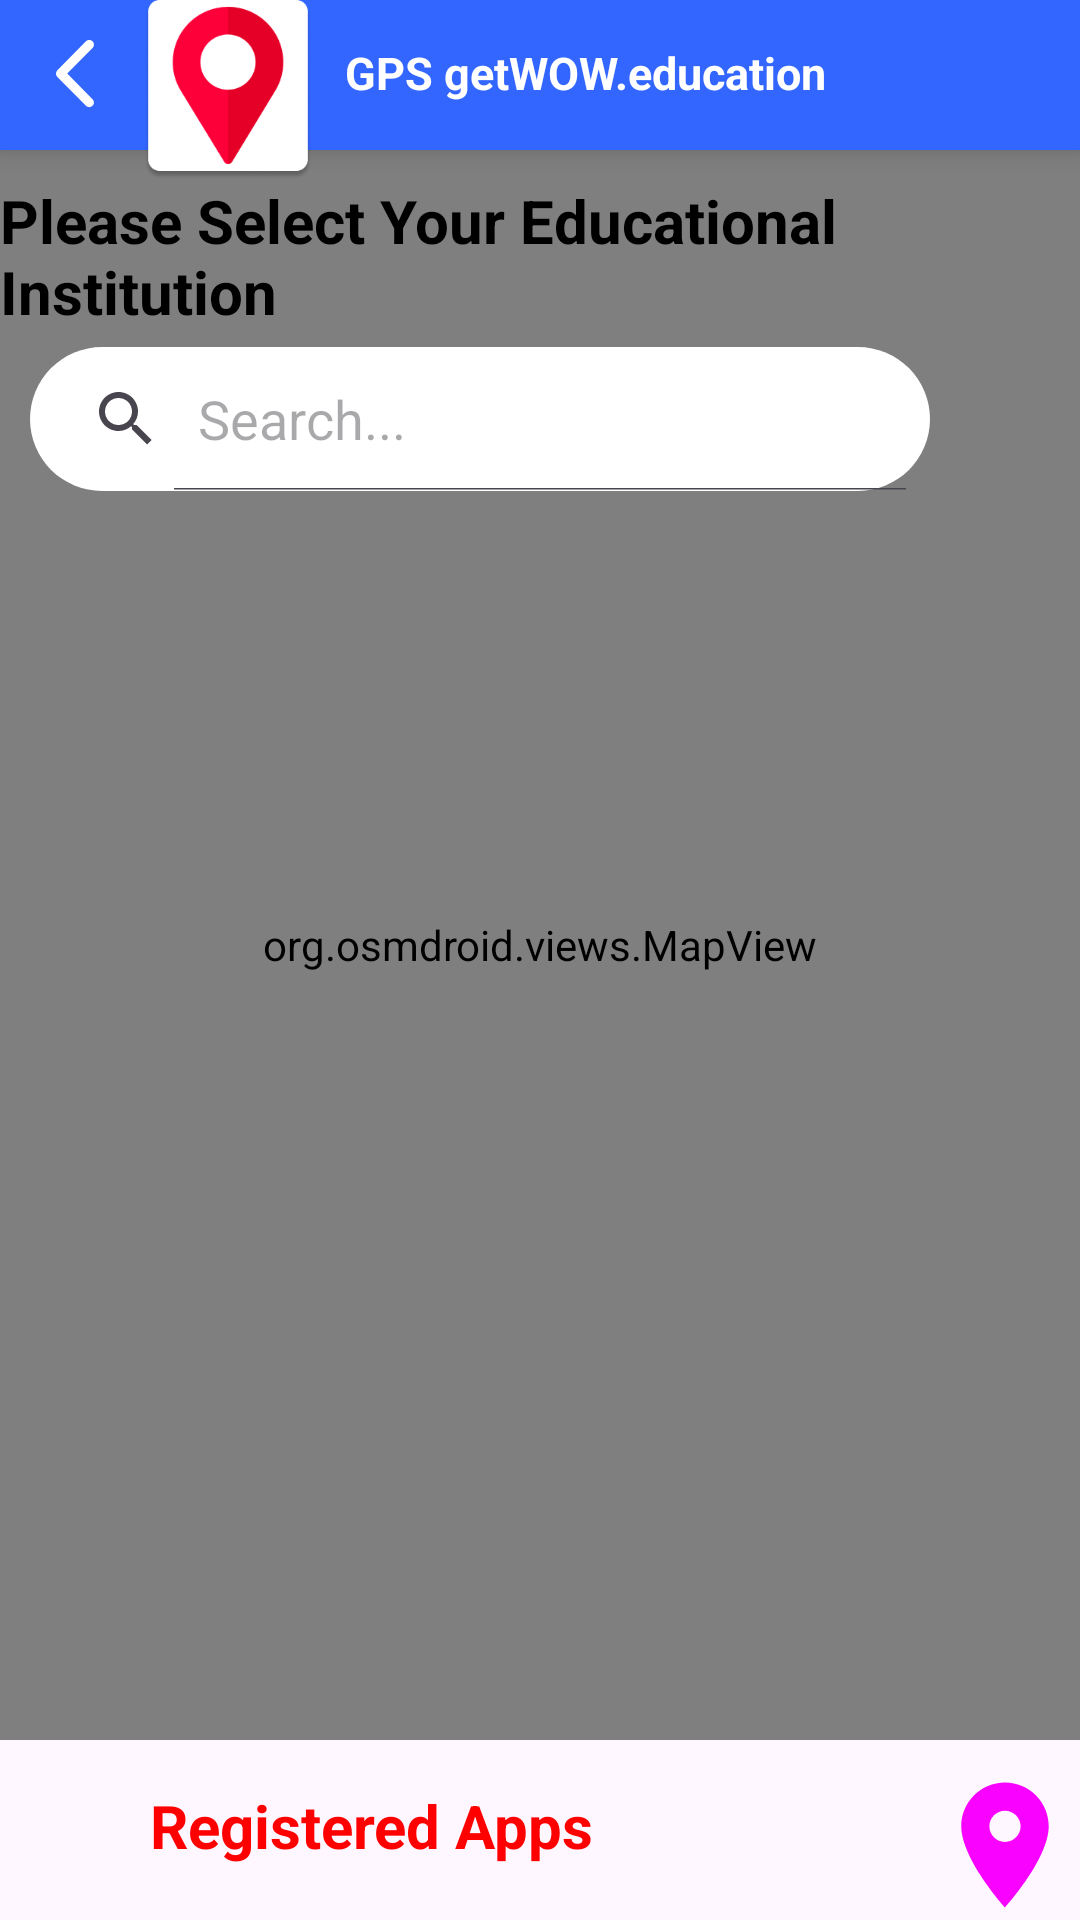

Point at icon controls on the screen. Image size 1080x1920, points as (x,y).
app: (228,90)
left arrow: (75,74)
marker: (1005,1845)
